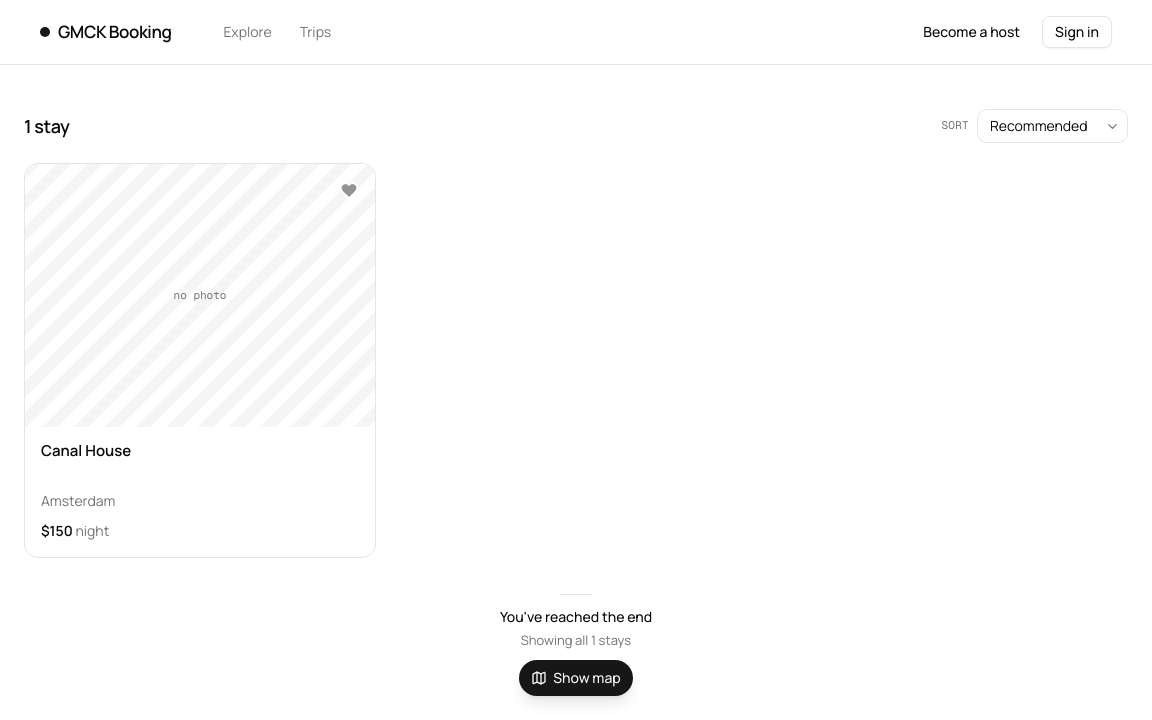
BrowseView map toggle › defaults to list-only and toggles the map open
Expected: the text "Canal House" is shown, left=41, top=440, right=131, bottom=461
Click the button "Show map": point(576, 678) left=519, top=660, right=633, bottom=696
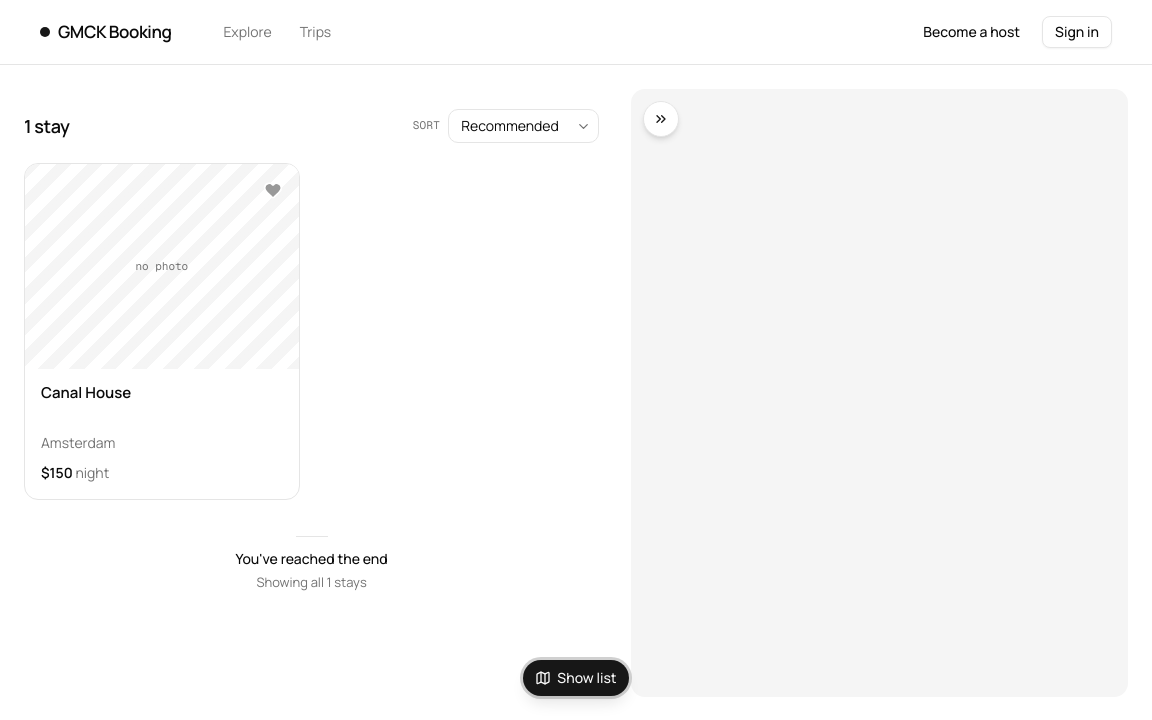
Expected: the button "Show list" is shown, left=523, top=660, right=629, bottom=696
